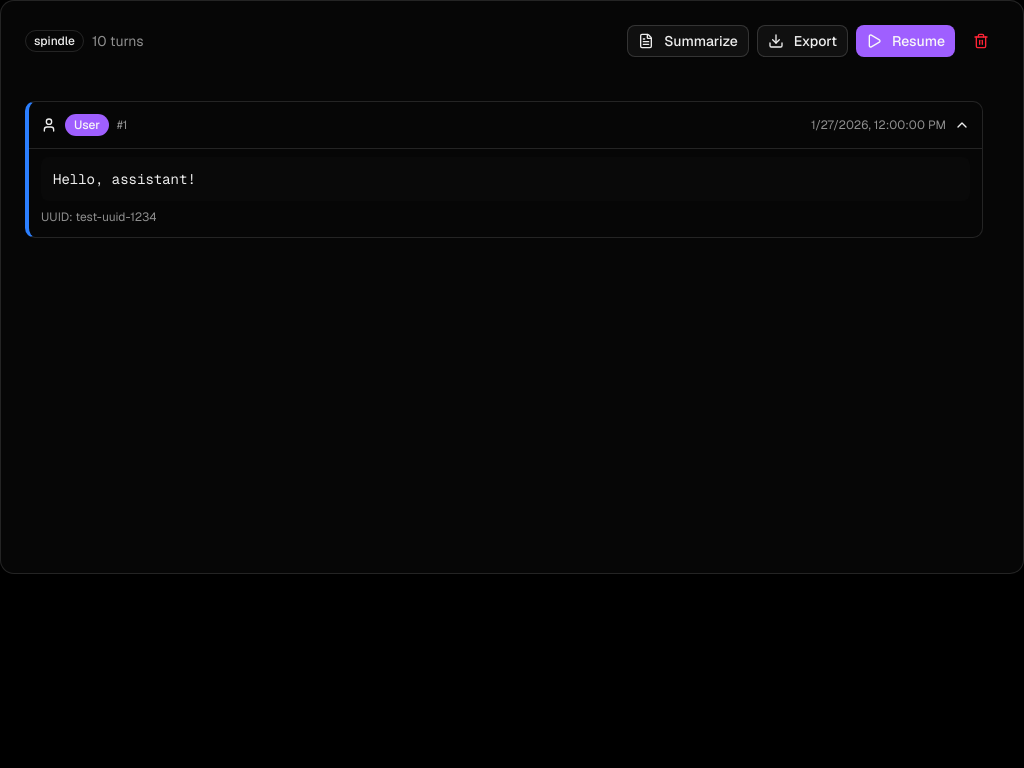
Test: SessionViewer › action buttons › should show delete confirmation on first click
Click the 4th button at [981, 41], box [963, 25, 999, 57]
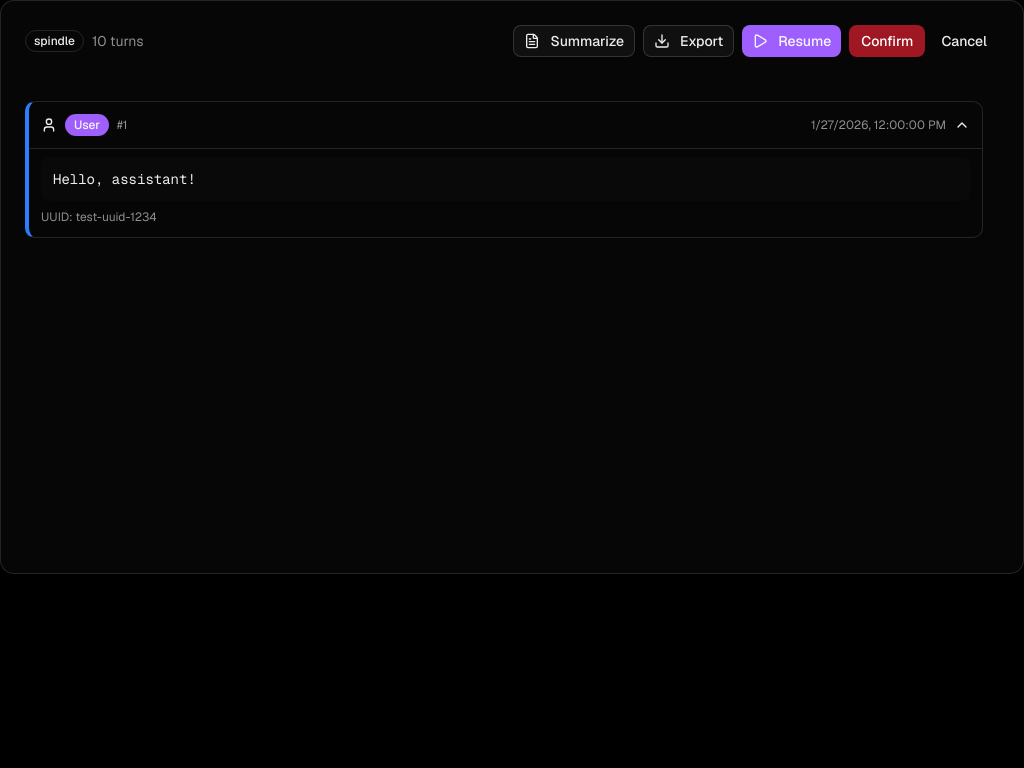
Expected: the button "Confirm" is shown, [849, 25, 926, 57]
Expected: the button "Cancel" is shown, [929, 25, 999, 57]
